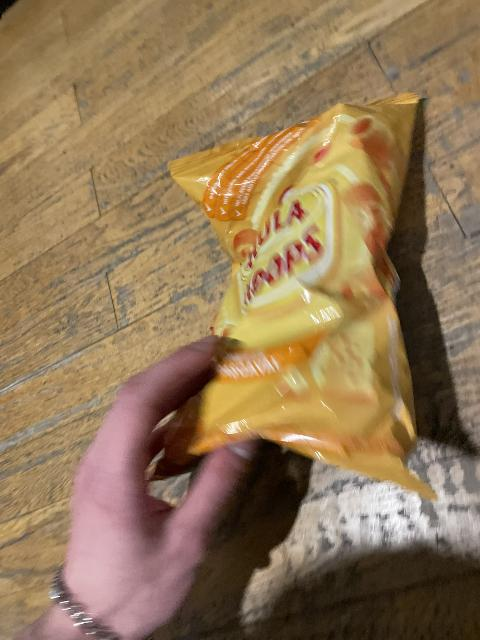Chio Hula Hoops Cheese 70g: (157, 94, 436, 501)
